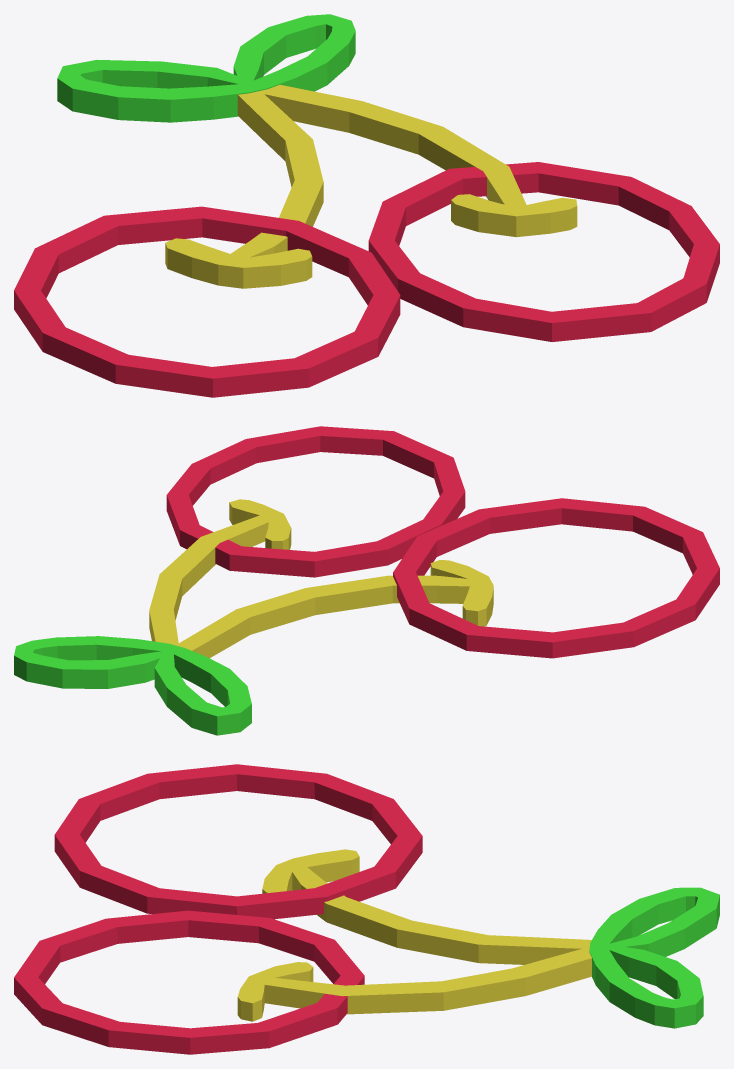
Rendered from Neon_Cherry.fbx.
3 renders of one model, top to bottom at view 1: azimuth 30°, elevation 25°; view 2: azimuth 150°, elevation 25°; view 3: azimuth 270°, elevation 25°, orthographic. The views are drawn at different scales.
Visible parts, largest first — view 1: Neon_Cherry; view 2: Neon_Cherry; view 3: Neon_Cherry.
Part boxes in pixels (<box>): Neon_Cherry: <box>14,14,719,397</box>; Neon_Cherry: <box>14,426,719,735</box>; Neon_Cherry: <box>14,764,719,1054</box>.
Bounding box in the file's own units: 81.63 × 3.42 × 90.62.
